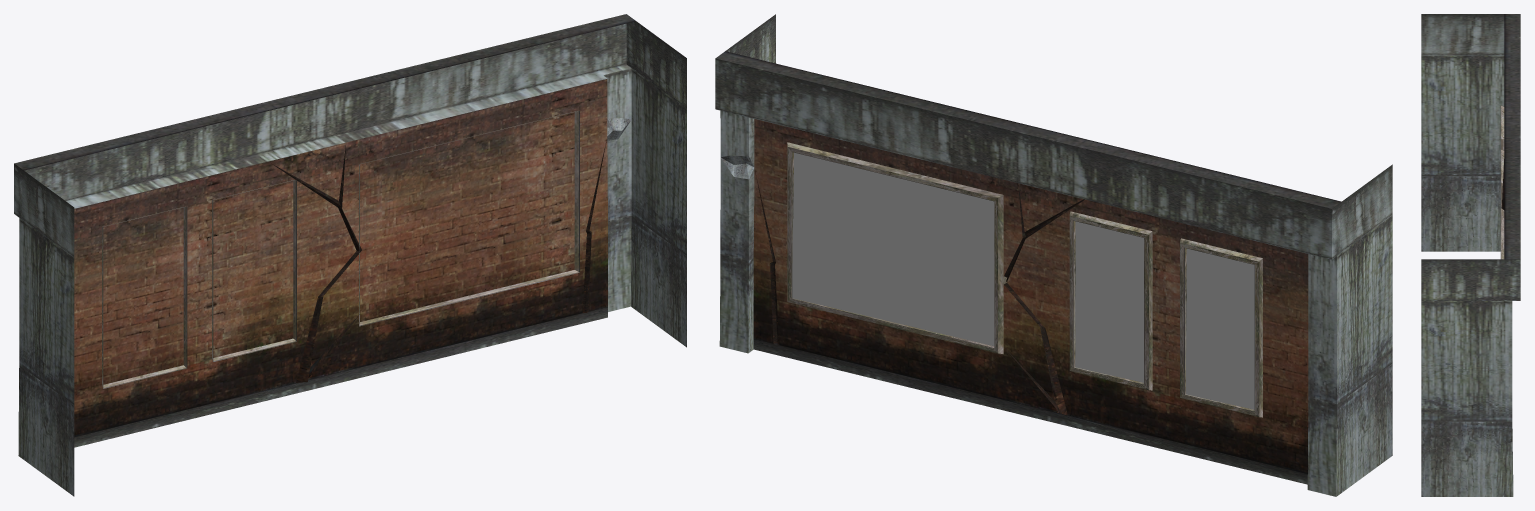
File: Store_front_4_E.fbx
The picture shows the model from 3 angles, left to right: view 1: azimuth 30°, elevation 25°; view 2: azimuth 150°, elevation 25°; view 3: azimuth 270°, elevation 25°; orthographic projection. The views are drawn at different scales.
Parts seen in each view (by area): view 1: Store_front_4_E; view 2: Store_front_4_E; view 3: Store_front_4_E.
Boxes of the visible parts, x1=… form: Store_front_4_E: x1=14, y1=14, x2=686, y2=496; Store_front_4_E: x1=715, y1=14, x2=1392, y2=496; Store_front_4_E: x1=1421, y1=14, x2=1520, y2=496.
Bounding box in the file's own units: 700 × 316 × 119.
